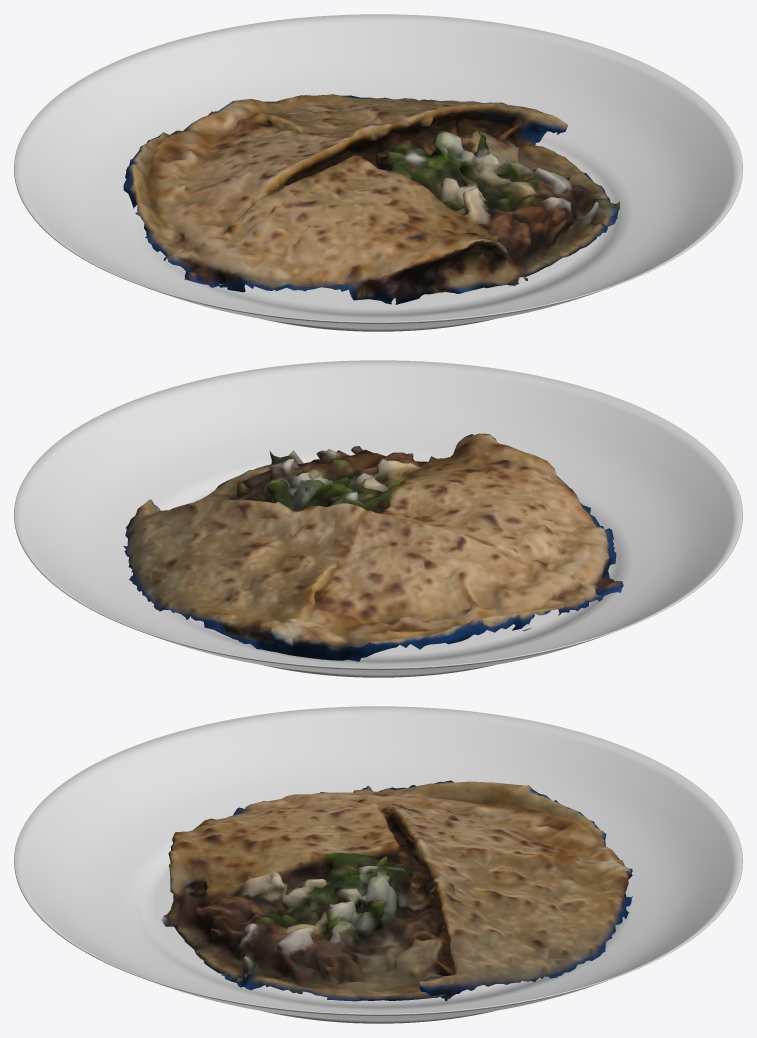
Rendered from chavindecaOPT.fbx.
The picture shows the model from 3 angles, top to bottom: view 1: azimuth 30°, elevation 25°; view 2: azimuth 150°, elevation 25°; view 3: azimuth 270°, elevation 25°; orthographic projection.
Visible parts, largest first — view 1: Plate, Mesh_0_Part_0.008; view 2: Plate, Mesh_0_Part_0.008; view 3: Plate, Mesh_0_Part_0.008.
Boxes of the visible parts, box(x1,y1,x2,y2) form: Plate: box(14, 14, 742, 331); Mesh_0_Part_0.008: box(123, 94, 619, 304); Plate: box(14, 360, 742, 677); Mesh_0_Part_0.008: box(123, 433, 623, 661); Plate: box(14, 706, 742, 1023); Mesh_0_Part_0.008: box(161, 780, 632, 1001).
Size of the model in its own units: 24.72 by 3.32 by 24.72.
Materials: 2 (1 with a texture image).
